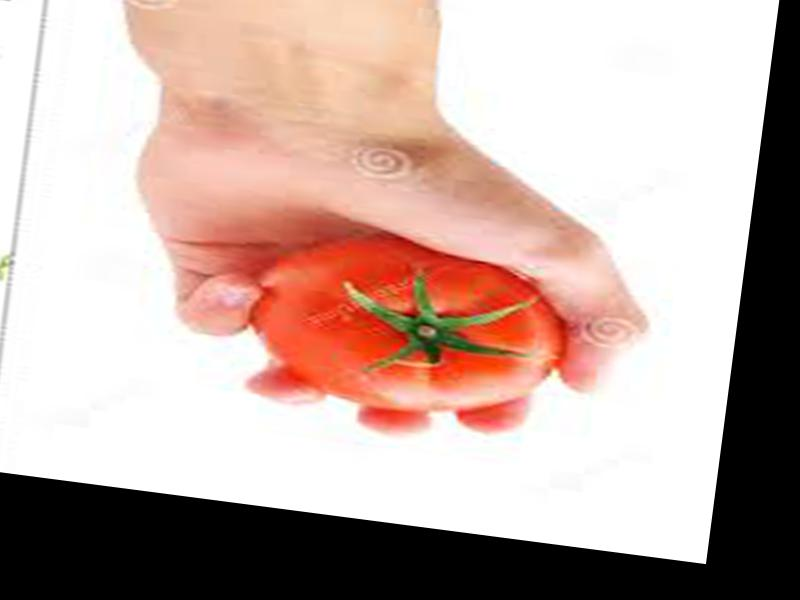Tomato: (239, 225, 568, 429)
